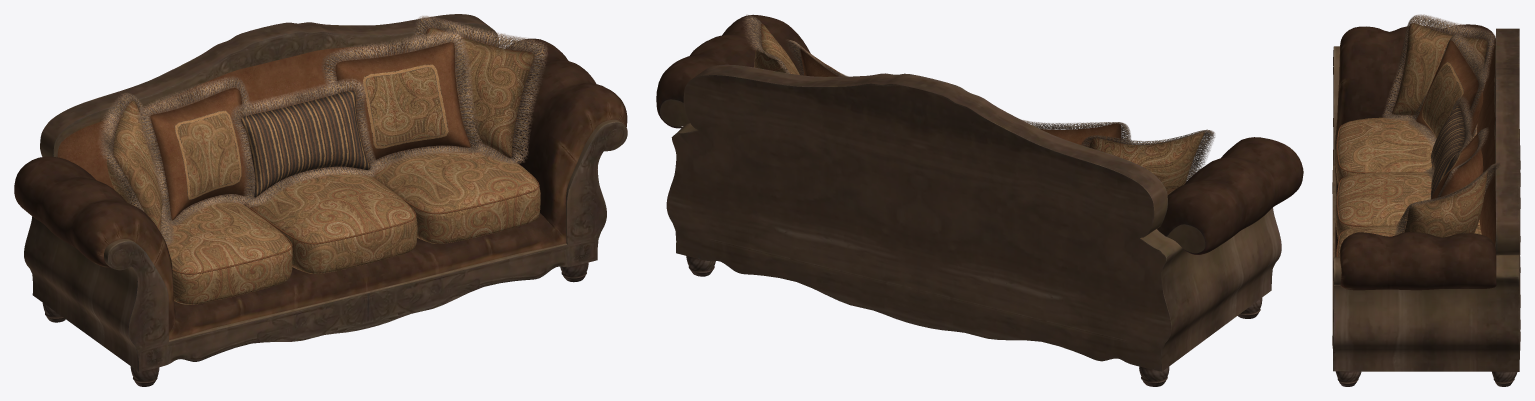
Rendered from SheenWoodLeatherSofa.glb.
The picture shows the model from 3 angles, left to right: view 1: azimuth 30°, elevation 25°; view 2: azimuth 150°, elevation 25°; view 3: azimuth 270°, elevation 25°; orthographic projection. The views are drawn at different scales.
Visible parts, largest first — view 1: Frame, Paisley, Fringe, Brown, Stripes, Frame_Fabric; view 2: Frame, Paisley, Fringe, Brown; view 3: Frame, Paisley, Fringe, Brown, Frame_Fabric, Stripes.
Part boxes in pixels (box(x1,y1,x2,y2)): Frame: box(14, 14, 627, 386); Paisley: box(107, 27, 540, 304); Fringe: box(98, 16, 547, 246); Brown: box(150, 42, 539, 274); Stripes: box(174, 64, 448, 199); Frame_Fabric: box(57, 34, 494, 189); Frame: box(656, 14, 1303, 386); Paisley: box(754, 23, 1204, 194); Fringe: box(743, 14, 1214, 182); Brown: box(800, 46, 1121, 147); Frame: box(1332, 24, 1520, 386); Paisley: box(1335, 23, 1487, 257); Fringe: box(1382, 14, 1499, 235); Brown: box(1336, 40, 1483, 257); Frame_Fabric: box(1477, 39, 1495, 245); Stripes: box(1422, 61, 1472, 198).
Size of the model in its own units: 2.73 by 1.12 by 0.9232.
6 materials, 6 textured.
